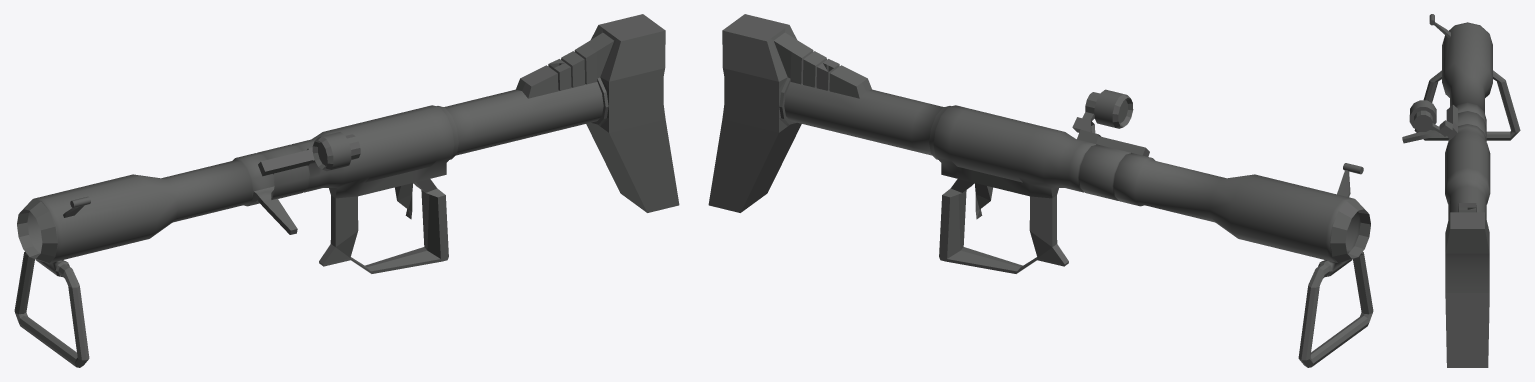
File: BZK.FBX
3 views of the same model, side by side, from view 1: azimuth 30°, elevation 25°; view 2: azimuth 150°, elevation 25°; view 3: azimuth 270°, elevation 25° (orthographic). The views are drawn at different scales.
Parts seen in each view (by area): view 1: Low; view 2: Low; view 3: Low.
Part boxes in pixels (left/top/right/bottom): Low: left=14, top=14, right=679, bottom=367; Low: left=708, top=14, right=1373, bottom=367; Low: left=1402, top=14, right=1520, bottom=367.
Size of the model in its own units: 253 by 68.25 by 53.22.
